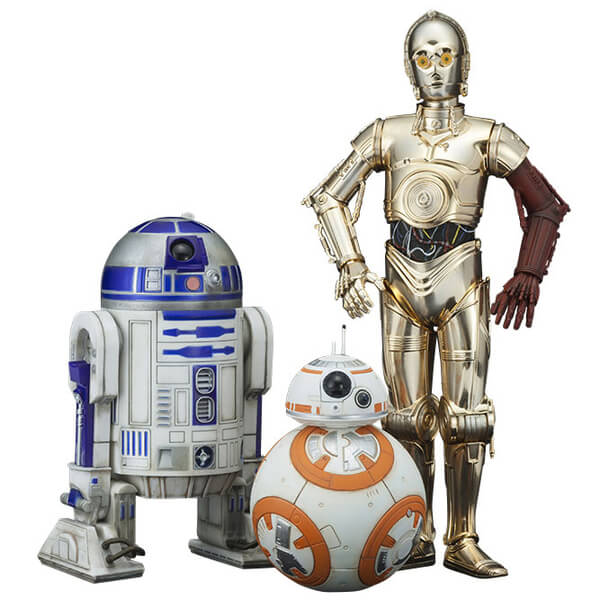r2d2: (39, 213, 275, 585)
